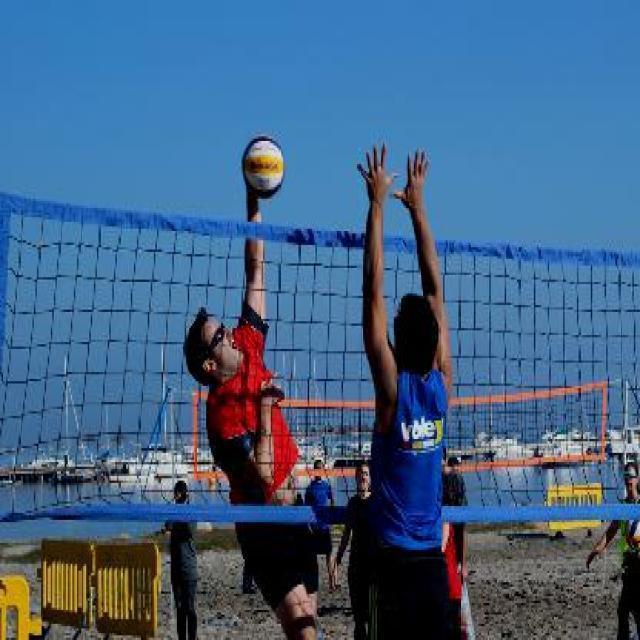volleyball: (241, 136, 285, 199)
